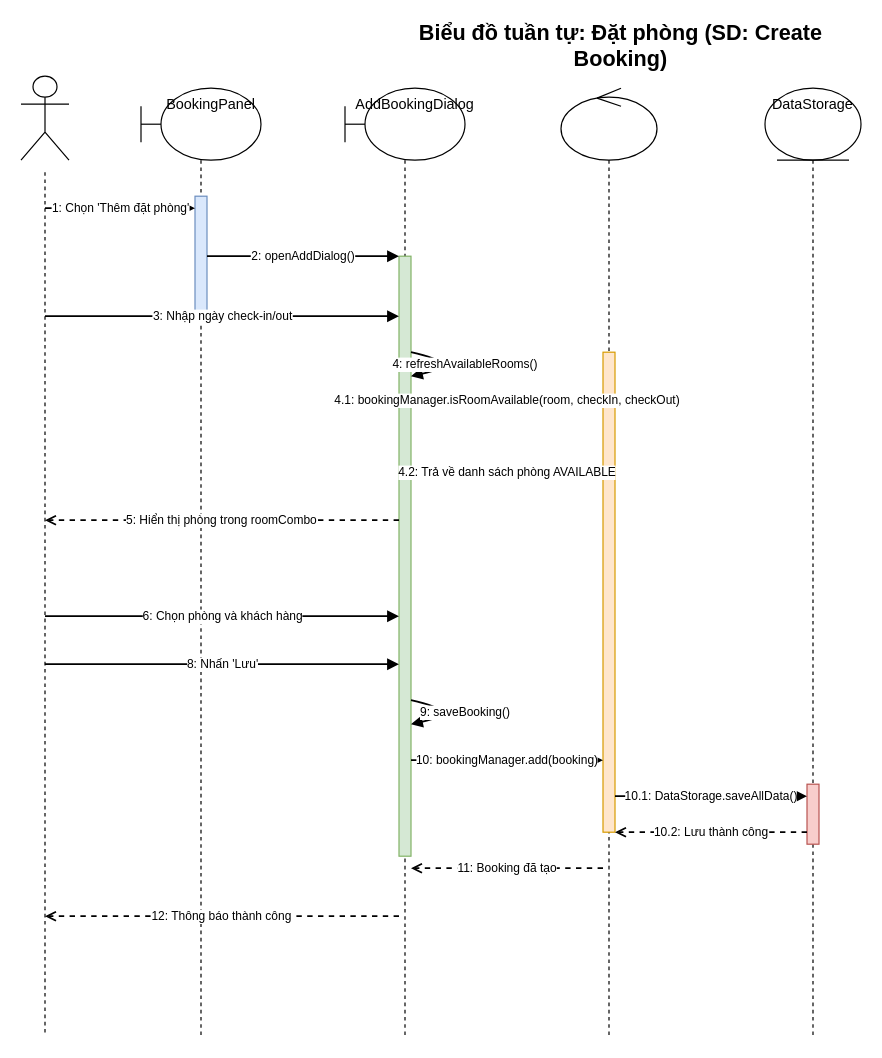
This 882x1058 diagram has some shape labels left out. Each missing label, with the centre of its shape:
BookingManager: (608,123)
Lễ tân: (44,117)
